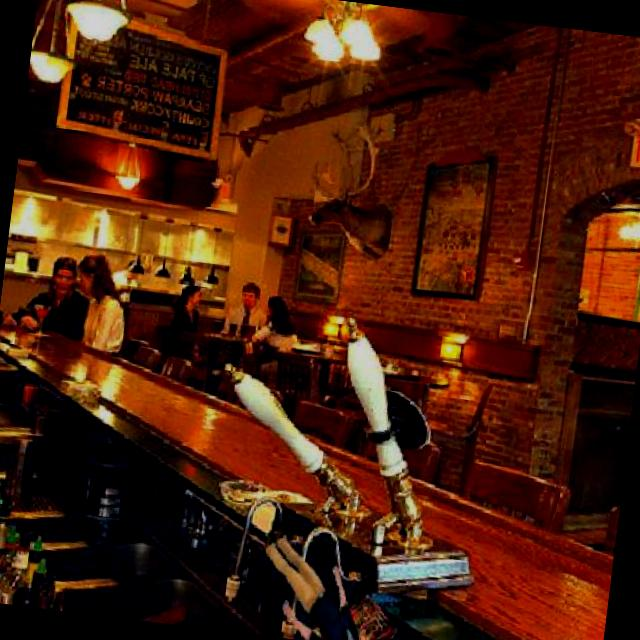Person: (250, 513, 375, 640)
